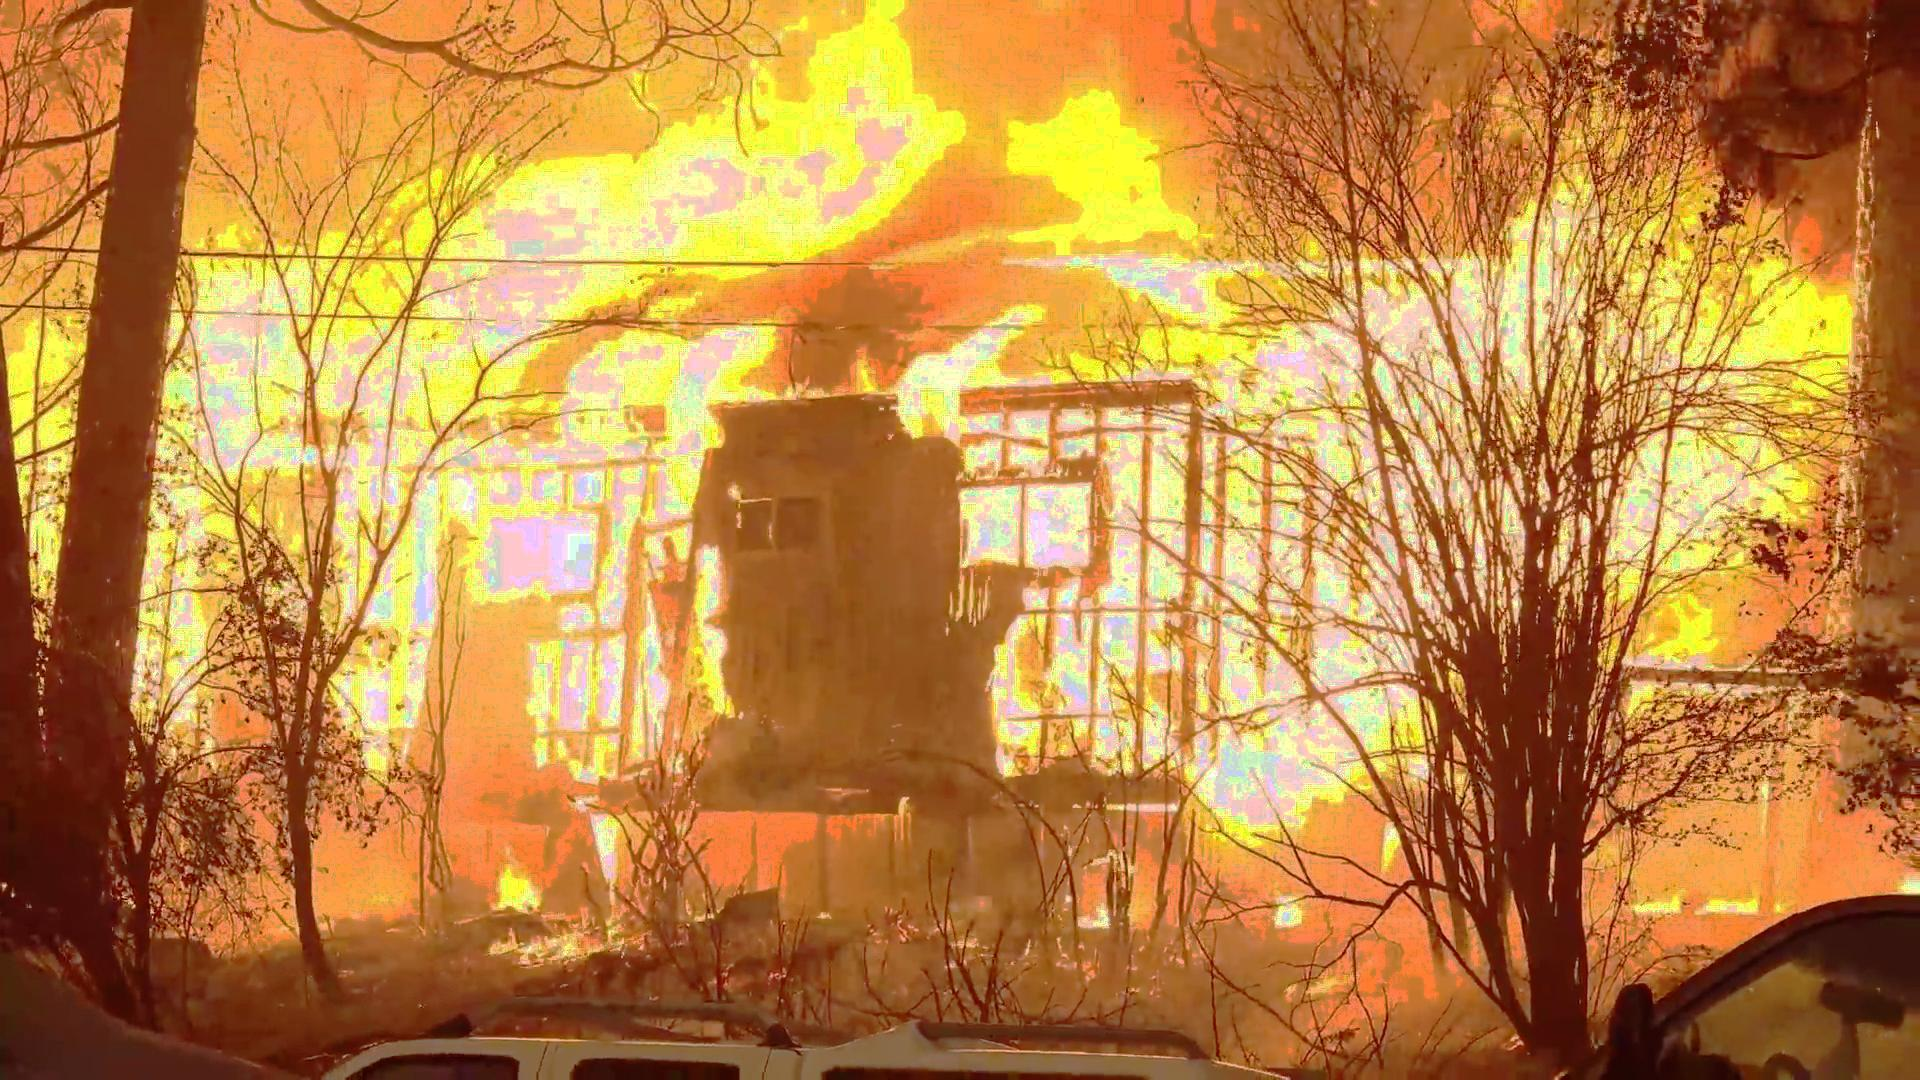fire: (1017, 73, 1180, 239)
